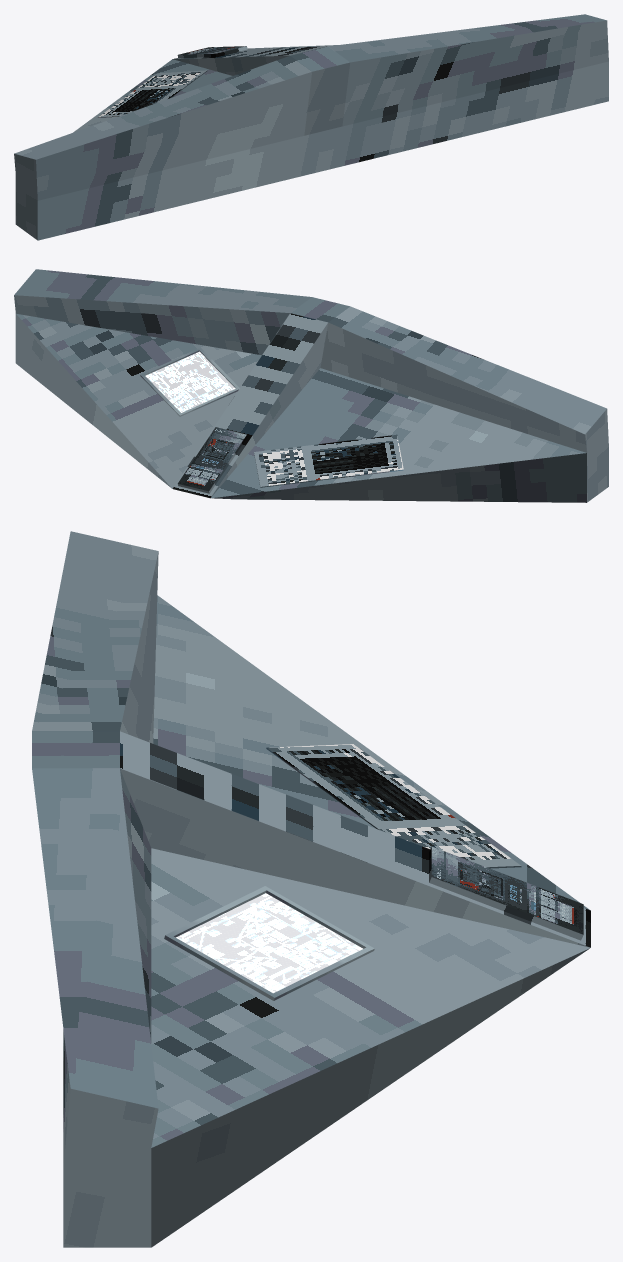
File: BridgeComputer.fbx
3 renders of one model, top to bottom at view 1: azimuth 30°, elevation 25°; view 2: azimuth 150°, elevation 25°; view 3: azimuth 270°, elevation 25°, orthographic. The views are drawn at different scales.
Parts seen in each view (by area): view 1: Console; view 2: Console; view 3: Console.
Boxes of the visible parts, bbox=[...] form: Console: bbox=[14, 14, 608, 240]; Console: bbox=[14, 269, 608, 502]; Console: bbox=[32, 531, 590, 1247].
Size of the model in its own units: 571 by 242 by 105.
Materials: 5 (4 with a texture image).
